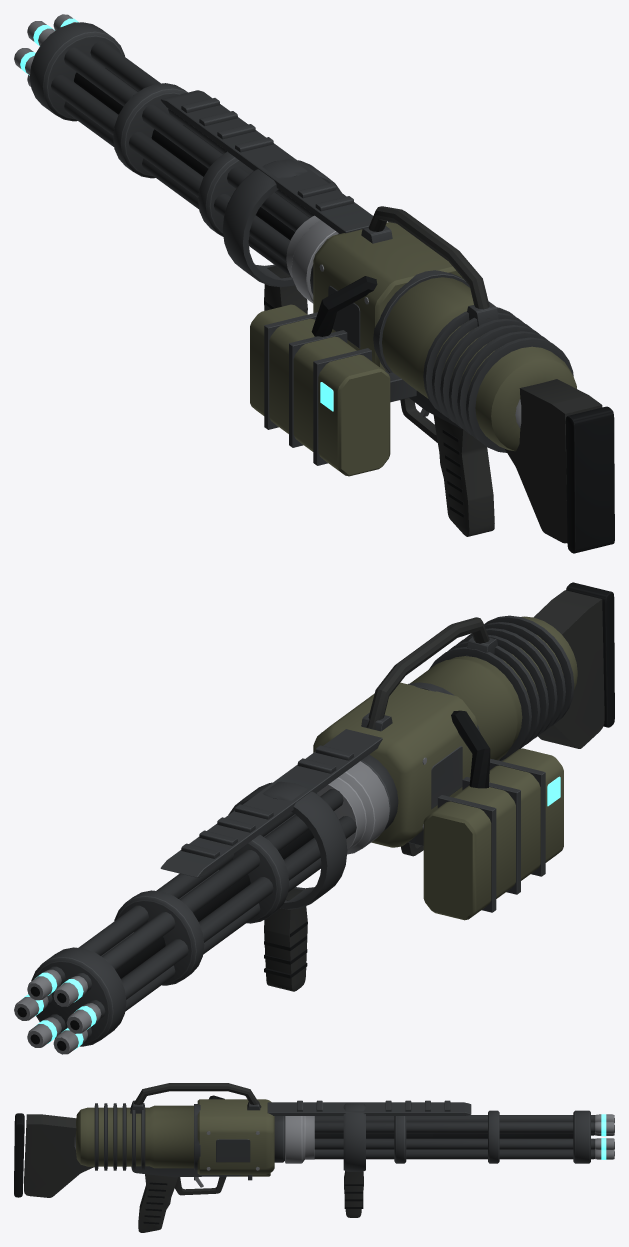
File: minigun.glb
3 views of the same model, one above another, from view 1: azimuth 30°, elevation 25°; view 2: azimuth 150°, elevation 25°; view 3: azimuth 270°, elevation 25° (orthographic). The views are drawn at different scales.
Parts seen in each view (by area): view 1: Body, Spin, Cell, ThirdPersonOnly; view 2: Body, Spin, Cell, ThirdPersonOnly; view 3: Body, Spin, ThirdPersonOnly.
Part boxes in pixels (x1,y1,x2,y2): Body: (161, 90, 576, 536); Spin: (14, 14, 338, 303); Cell: (250, 276, 416, 476); ThirdPersonOnly: (505, 379, 614, 553); Body: (160, 615, 577, 991); Spin: (14, 761, 389, 1054); Cell: (408, 710, 563, 920); ThirdPersonOnly: (533, 582, 614, 748); Body: (74, 1083, 471, 1232); Spin: (285, 1110, 614, 1163); ThirdPersonOnly: (14, 1113, 94, 1197).
Bounding box in the file's own units: 0.2175 × 0.3274 × 1.22.
